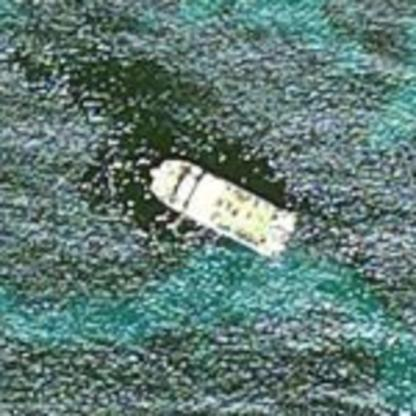ship: (136, 148, 307, 266)
